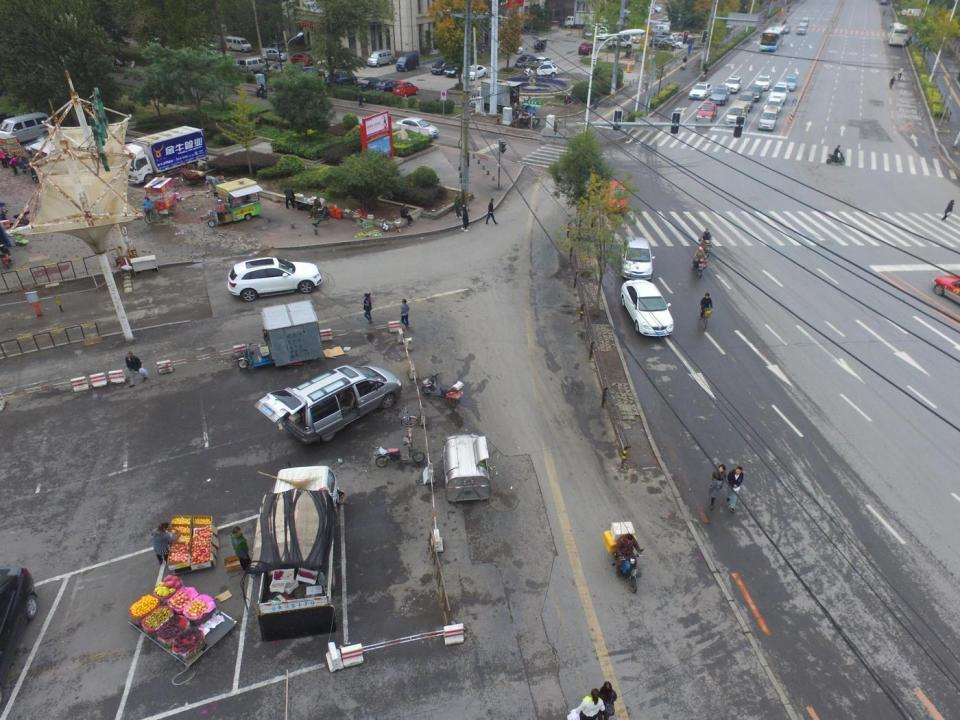bus: (759, 25, 785, 51), (888, 23, 908, 45)
car: (227, 256, 322, 302), (621, 280, 674, 336), (620, 237, 655, 281), (396, 116, 438, 138), (604, 181, 628, 213), (296, 68, 326, 83), (326, 72, 357, 86), (688, 82, 712, 100), (461, 63, 486, 80), (696, 102, 717, 122), (710, 84, 730, 105), (394, 82, 419, 98), (768, 82, 788, 102), (430, 60, 458, 74), (444, 63, 470, 78), (372, 80, 400, 93), (261, 48, 288, 61), (736, 92, 755, 110), (287, 53, 312, 66), (261, 63, 285, 76), (276, 66, 302, 78), (357, 78, 381, 91), (724, 76, 742, 93), (754, 74, 772, 90), (764, 98, 782, 114), (748, 85, 763, 102), (263, 43, 289, 52), (578, 42, 595, 55), (784, 74, 797, 91), (233, 58, 254, 68), (782, 25, 790, 34)
truck: (248, 465, 336, 642), (119, 125, 208, 184), (470, 79, 519, 112), (564, 10, 597, 28), (526, 63, 558, 78), (499, 41, 523, 54), (515, 54, 535, 68), (534, 57, 552, 68)
van: (254, 364, 401, 444), (0, 112, 55, 142), (726, 100, 748, 126), (758, 105, 778, 131), (366, 49, 393, 68), (239, 57, 267, 73), (396, 52, 419, 71), (225, 36, 252, 52), (797, 24, 806, 35), (800, 17, 809, 28)
